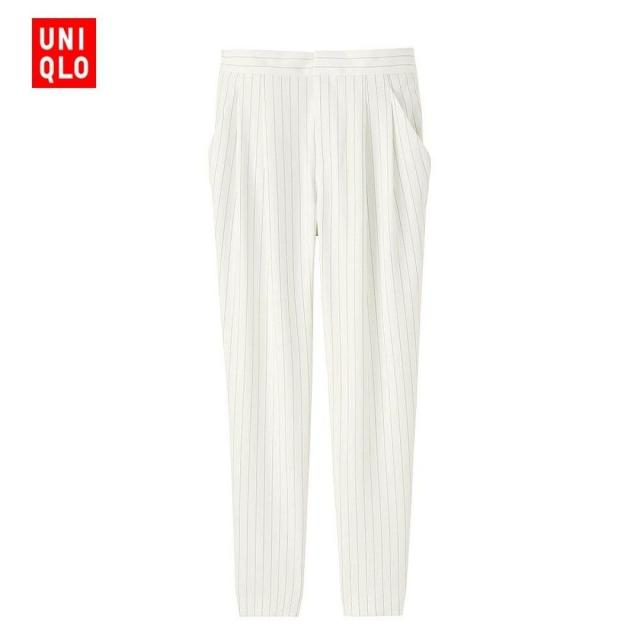long-pants: (206, 47, 433, 624)
